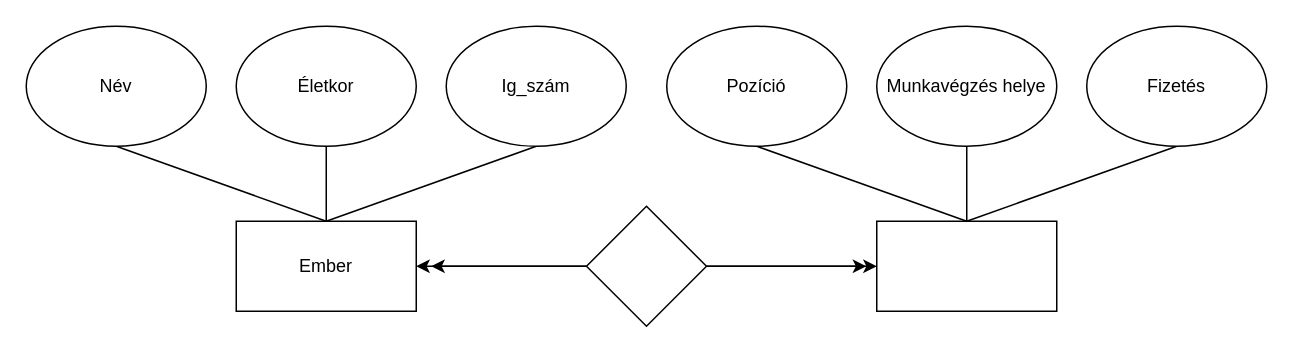
The diagram is 1293 pixels wide and 353 high, and some of its shapes have lost their labels. Here are the shapes that lost their labels. From the top down, the centre of each, then its label:
the point at 645,265: Foglalkozás
the point at 966,265: Munkahely
